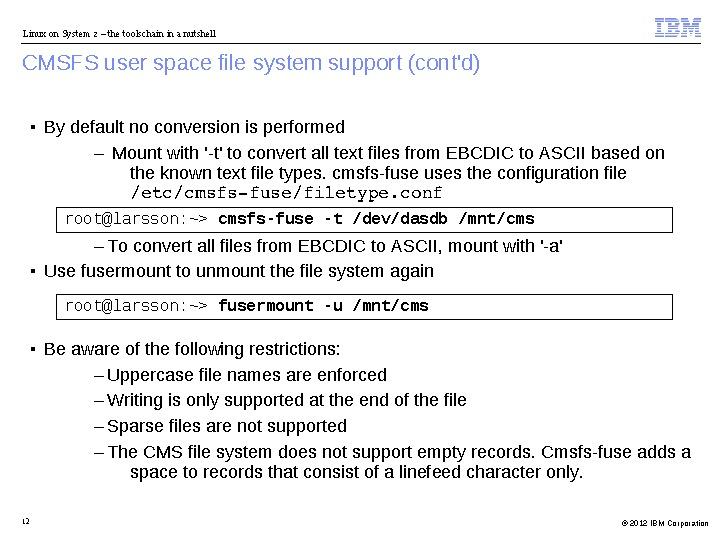paragraph: (21, 105, 723, 502)
subtitle: (19, 49, 499, 84)
title: (17, 24, 227, 44)
